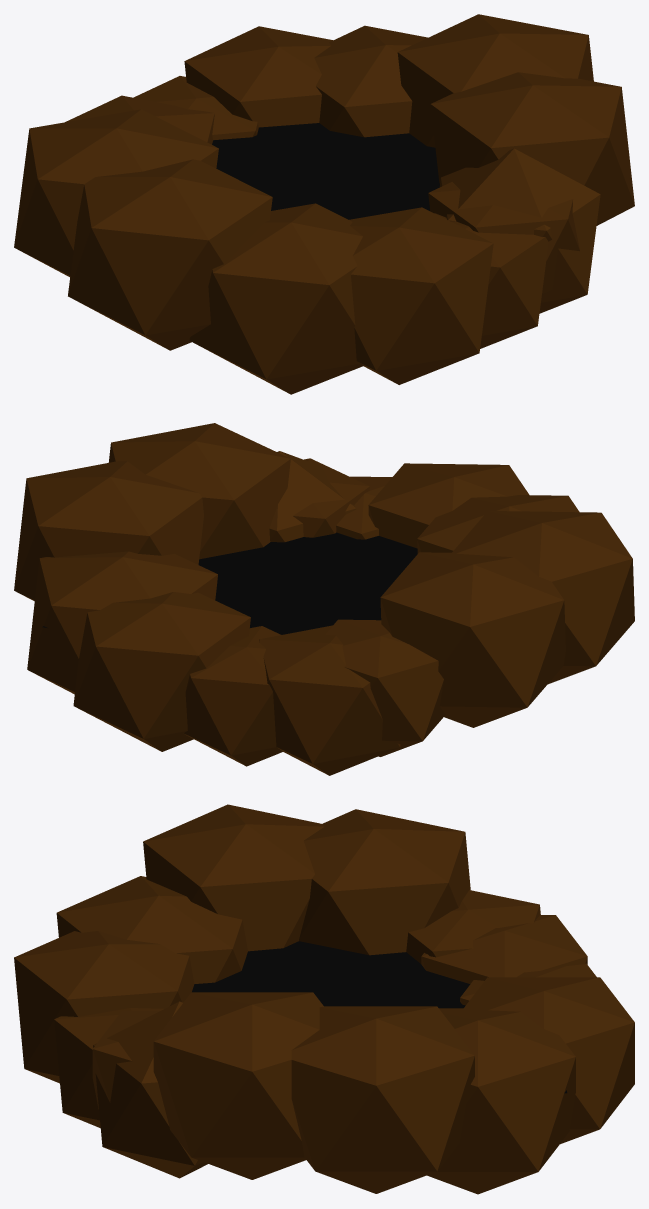
Rendered from rabbithole.fbx.
3 views of the same model, one above another, from view 1: azimuth 30°, elevation 25°; view 2: azimuth 150°, elevation 25°; view 3: azimuth 270°, elevation 25° (orthographic). The views are drawn at different scales.
Parts seen in each view (by area): view 1: RabbitHole; view 2: RabbitHole; view 3: RabbitHole.
Boxes of the visible parts, x1,y1,x2,y2 form: RabbitHole: [14, 14, 634, 394]; RabbitHole: [14, 423, 634, 775]; RabbitHole: [14, 804, 634, 1194].
Bounding box in the file's own units: 349 × 120 × 325.
